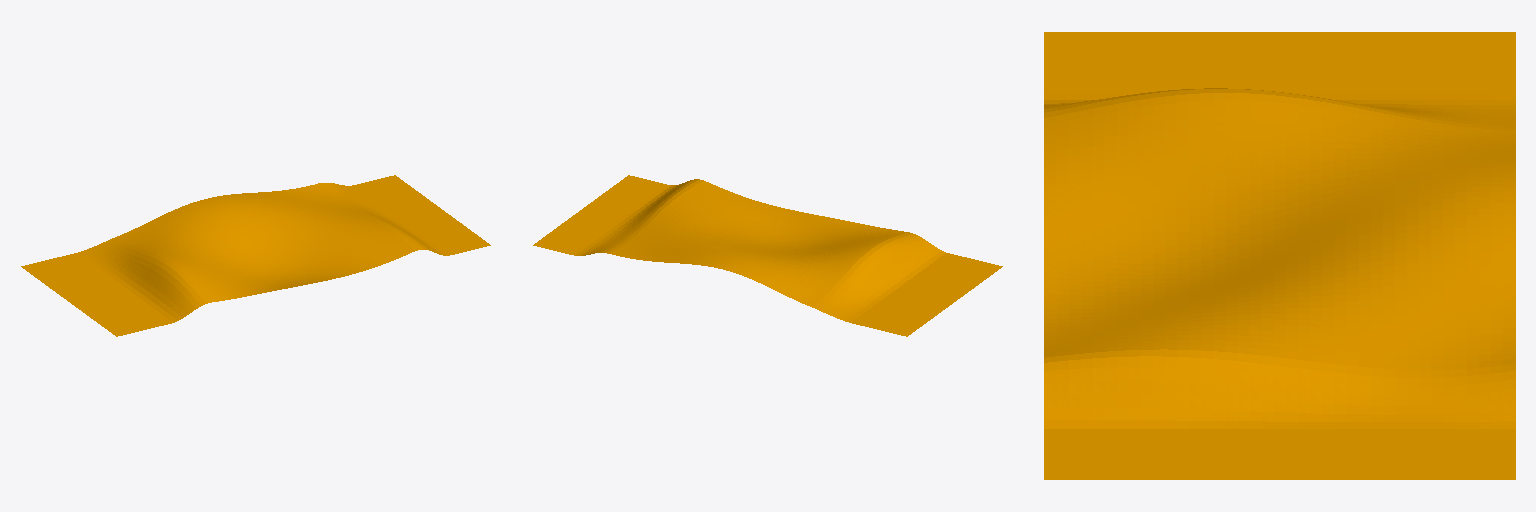
The robot description file, URDF, robot "hill_11":
<?xml version='1.0' encoding='UTF-8'?>
<robot name="hill_11">
  <link name="terrain_link">
    <inertial>
      <origin xyz="0 0 0" rpy="0 0 0"/>
      <mass value="1.0"/>
      <inertia ixx="1.0" ixy="0.0" ixz="0.0" iyy="1.0" iyz="0.0" izz="1.0"/>
    </inertial>
    <visual name="terrain_visual">
      <geometry>
        <mesh filename="hill_11.obj" scale="1 1 1"/>
      </geometry>
      <origin xyz="0 0 0" rpy="0 0 0"/>
    </visual>
    <collision name="terrain_collision">
      <geometry>
        <mesh filename="hill_11.obj" scale="1 1 1"/>
      </geometry>
      <origin xyz="0 0 0" rpy="0 0 0"/>
    </collision>
  </link>
</robot>

--- Render facts (derived) ---
The picture shows the robot from 3 angles, left to right: view 1: azimuth 30°, elevation 25°; view 2: azimuth 150°, elevation 25°; view 3: azimuth 270°, elevation 25°; orthographic projection.
Model hill_11 with 1 links and 0 joints (none), rooted at terrain_link, posed all joints at 0.
Links seen in each view (by area): view 1: terrain_link; view 2: terrain_link; view 3: terrain_link.
Boxes of the visible links, x1,y1,x2,y2 form: terrain_link: (21,175,490,336); terrain_link: (533,175,1002,336); terrain_link: (1044,32,1515,479).
Bounding box of the posed robot: 54 × 24 × 3.15 m (x, y, z).
1 mesh visuals loaded from 1 distinct referenced files (1 OBJ).
